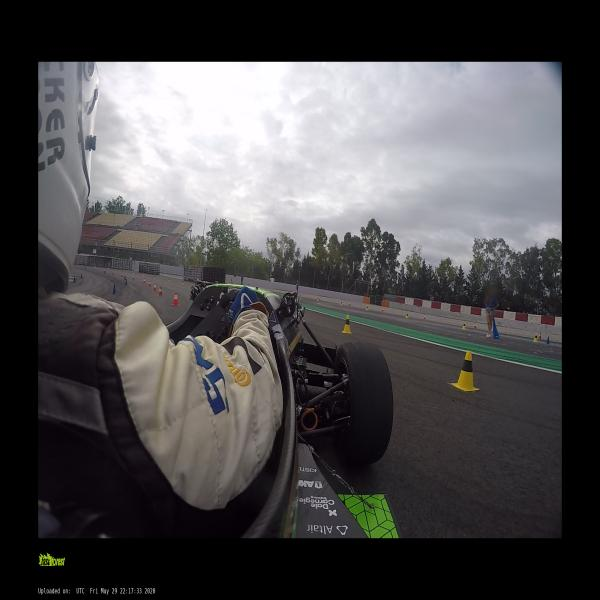blue_cone: (112, 284, 116, 294), (546, 336, 550, 344), (72, 276, 76, 282), (125, 279, 128, 285), (124, 276, 126, 280), (80, 274, 82, 278)
orange_cone: (172, 292, 179, 306), (158, 286, 163, 296), (152, 283, 157, 292), (537, 332, 542, 340), (147, 280, 151, 288), (142, 278, 146, 284), (473, 323, 476, 329), (423, 314, 426, 320)
yellow_cone: (450, 352, 478, 394), (342, 314, 351, 334), (461, 322, 466, 330), (533, 334, 537, 342), (405, 313, 409, 319), (181, 280, 184, 285), (154, 274, 157, 279), (366, 305, 368, 311), (168, 278, 171, 282), (340, 301, 342, 306), (316, 297, 318, 301), (142, 272, 144, 276)
